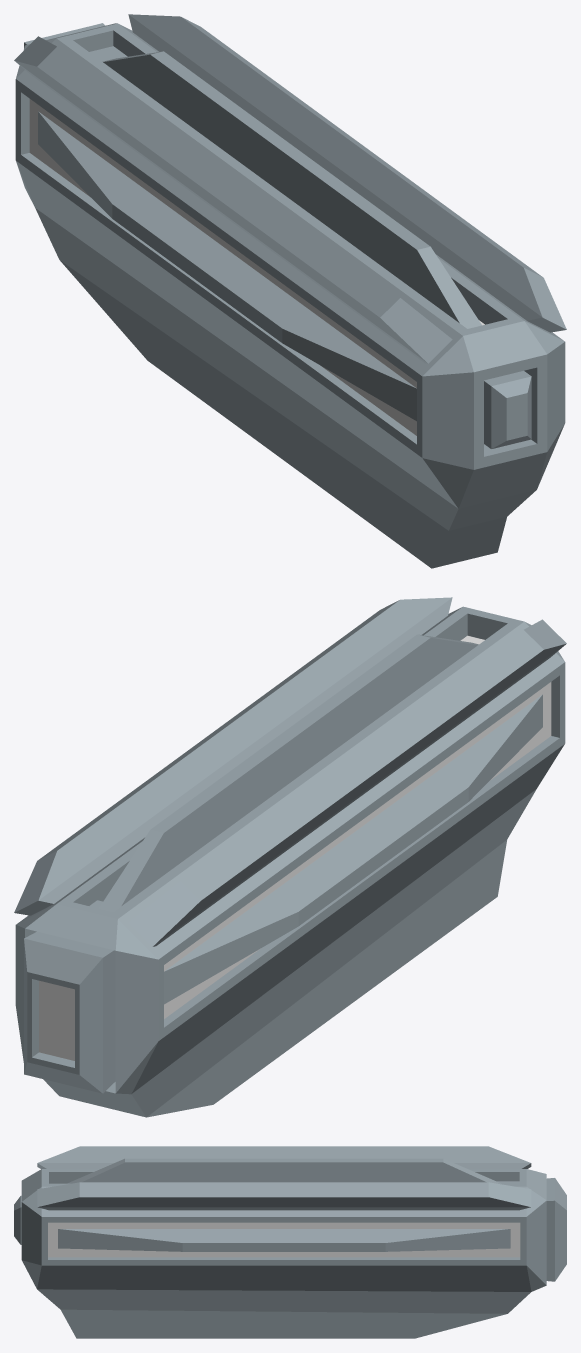
File: pc_engine.fbx
The picture shows the model from 3 angles, top to bottom: view 1: azimuth 30°, elevation 25°; view 2: azimuth 150°, elevation 25°; view 3: azimuth 270°, elevation 25°; orthographic projection. The views are drawn at different scales.
Parts seen in each view (by area): view 1: engine; view 2: engine; view 3: engine.
Boxes of the visible parts, x1,y1,x2,y2 form: engine: [14, 14, 566, 568]; engine: [14, 597, 566, 1117]; engine: [14, 1146, 566, 1338].
Size of the model in its own units: 69.35 by 101 by 299.
2 materials, 1 textured.
